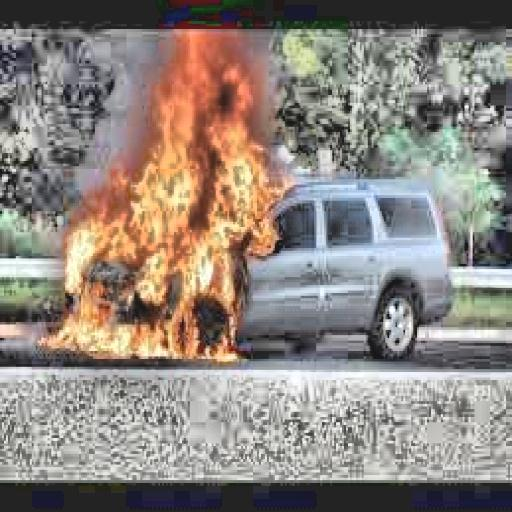fire: (58, 68, 294, 366)
